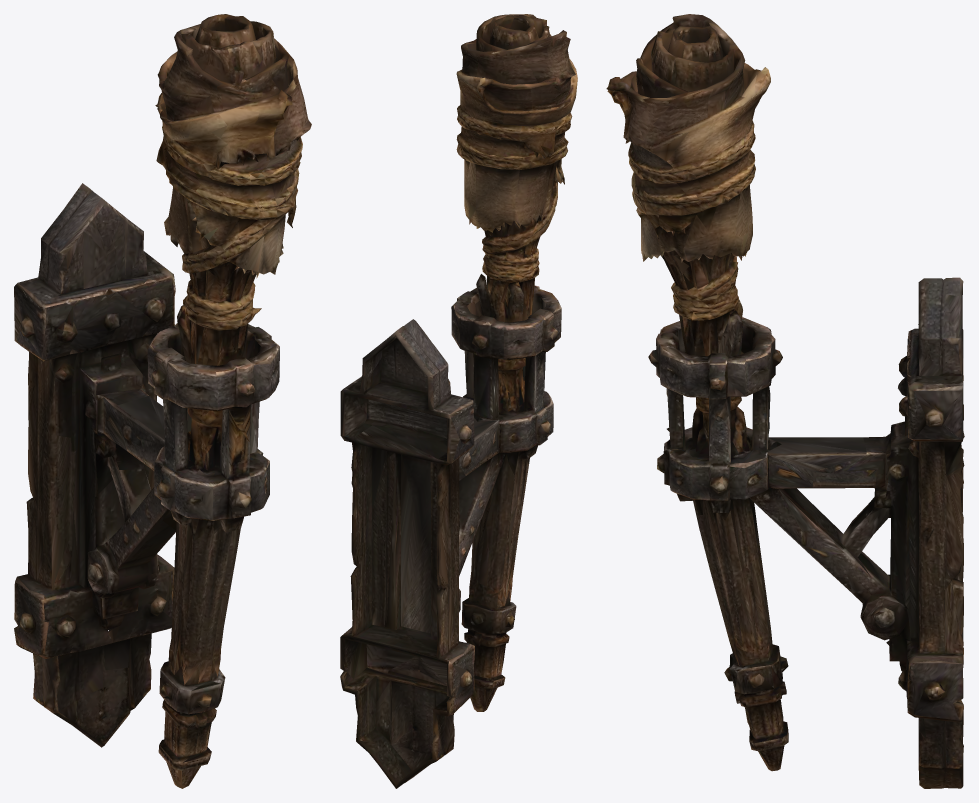
The picture shows the model from 3 angles, left to right: view 1: azimuth 30°, elevation 25°; view 2: azimuth 150°, elevation 25°; view 3: azimuth 270°, elevation 25°; orthographic projection. The views are drawn at different scales.
Parts seen in each view (by area): view 1: node_0; view 2: node_0; view 3: node_0.
Boxes of the visible parts, x1=… form: node_0: x1=14, y1=14, x2=311, y2=788; node_0: x1=340, y1=14, x2=577, y2=788; node_0: x1=606, y1=14, x2=964, y2=788.
Bounding box in the file's own units: 0.2111 × 1.11 × 0.4759.
1 material, 1 textured.
